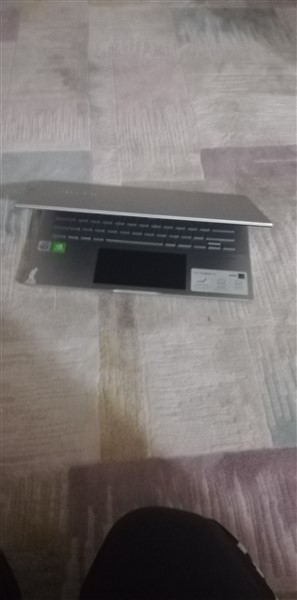laptop: (12, 172, 276, 312)
